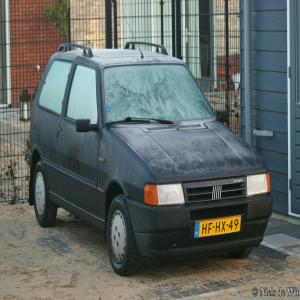Vehicle-registration-plate: (185, 215, 256, 250)
